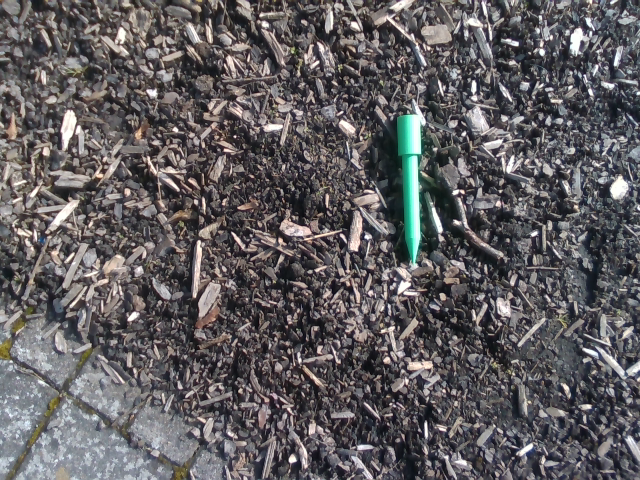Probe: (391, 110, 428, 271)
